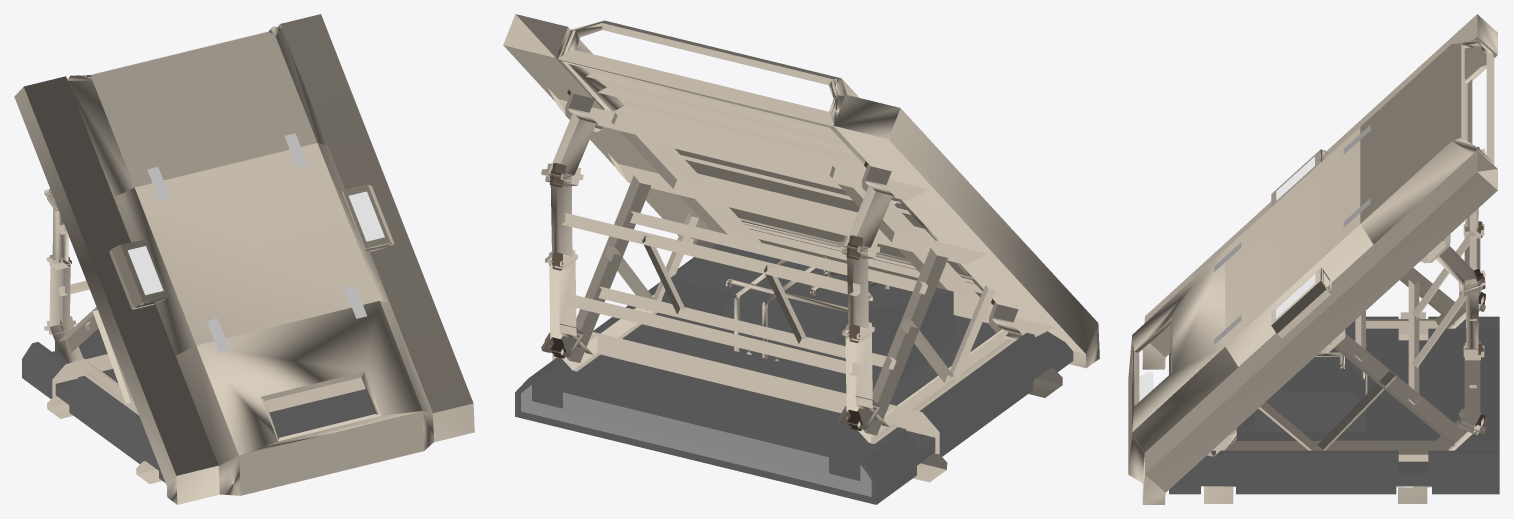
The model's file is barrier_b_04x04x04.glb.
3 views of the same model, side by side, from view 1: azimuth 30°, elevation 25°; view 2: azimuth 150°, elevation 25°; view 3: azimuth 270°, elevation 25° (orthographic). The views are drawn at different scales.
Size of the model in its own units: 3.99 by 3.98 by 3.96.
